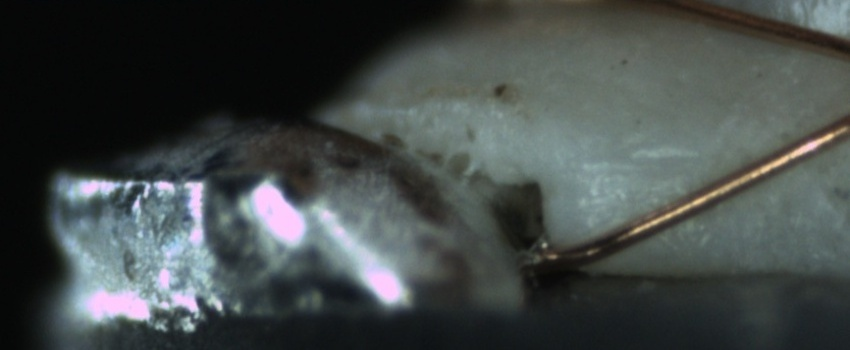DL: (581, 133, 713, 197)
